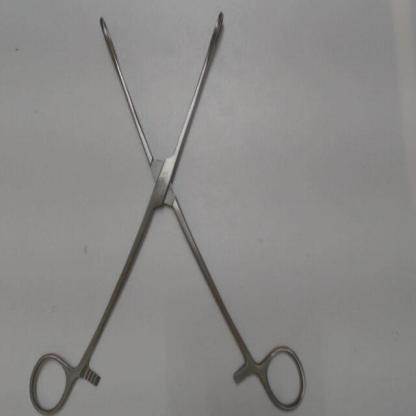Sponge Forceps: (29, 7, 310, 414)
